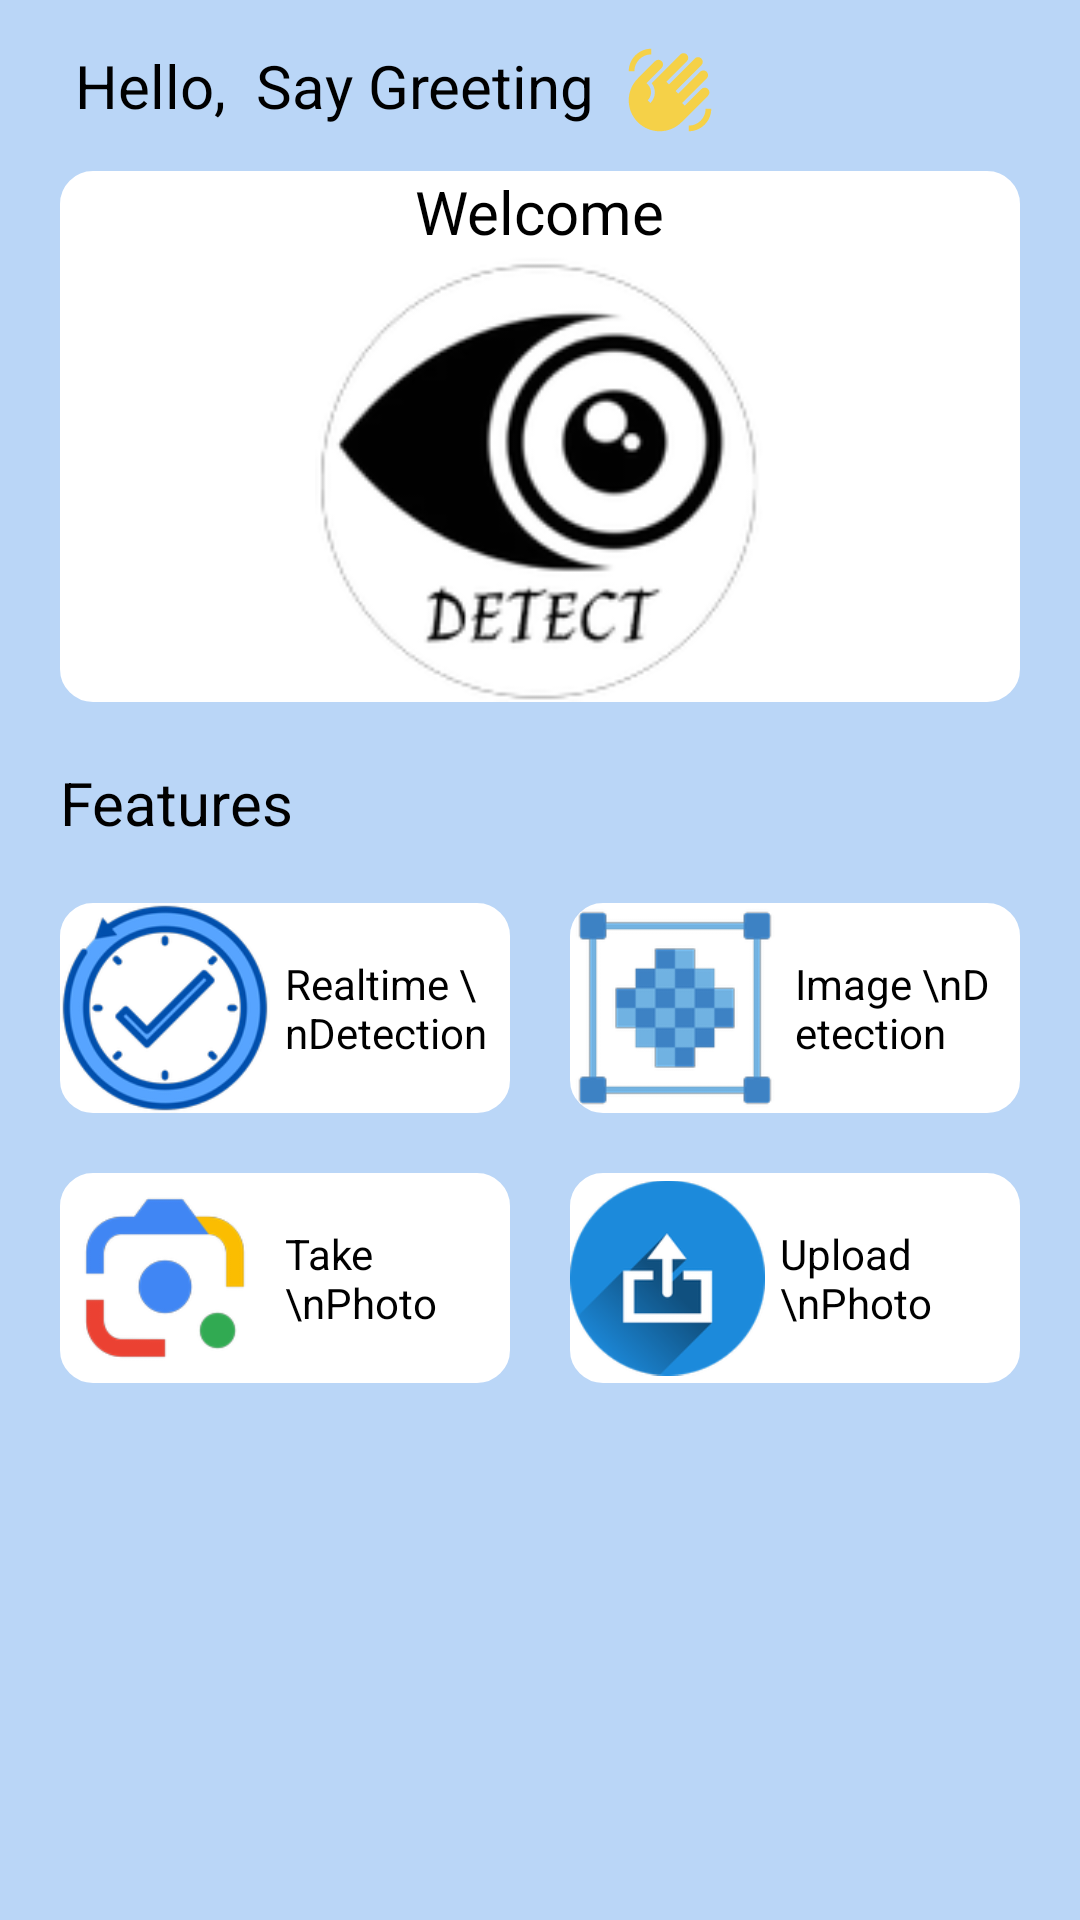

Where to tap for icons on this 1080 x 1920 app screen, as [x,y]:
waving hand: [670,90]
